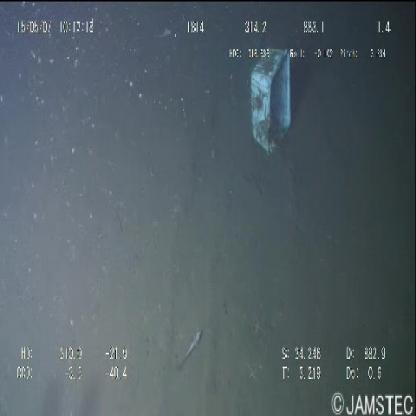Rác: (248, 37, 294, 162)
